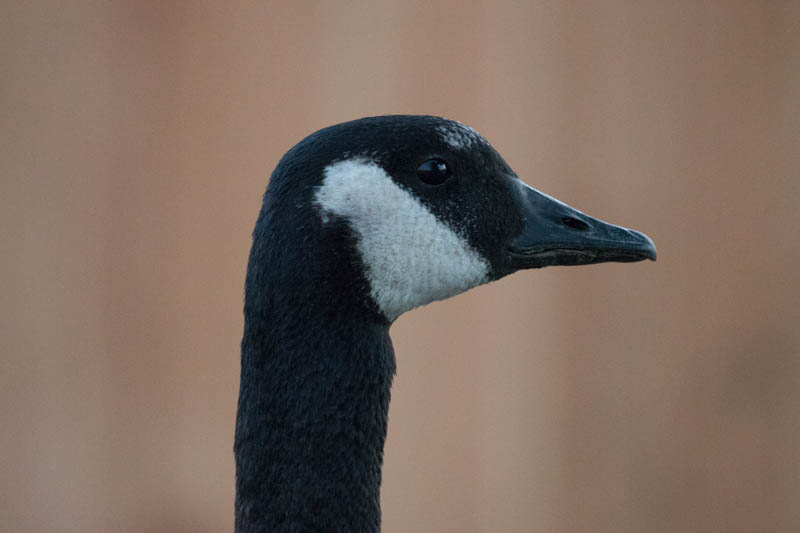goose-head: (243, 112, 657, 324)
